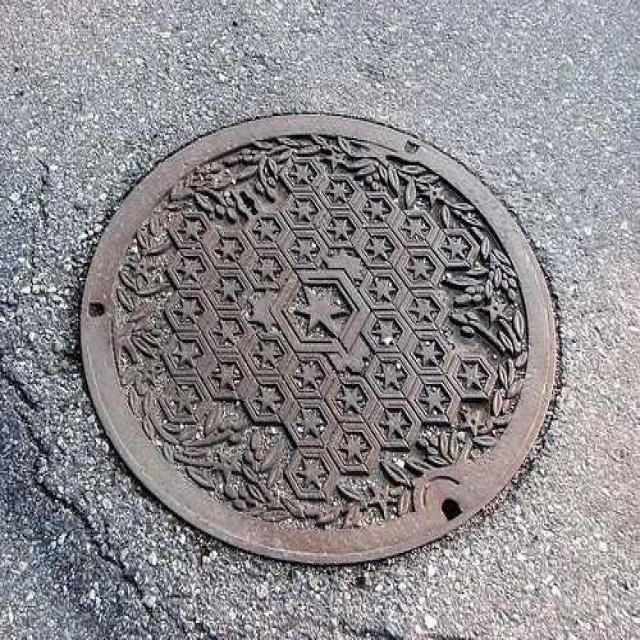manhole: (81, 115, 556, 563)
